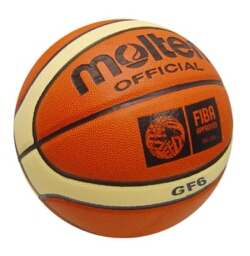basketball: (12, 18, 232, 237)
